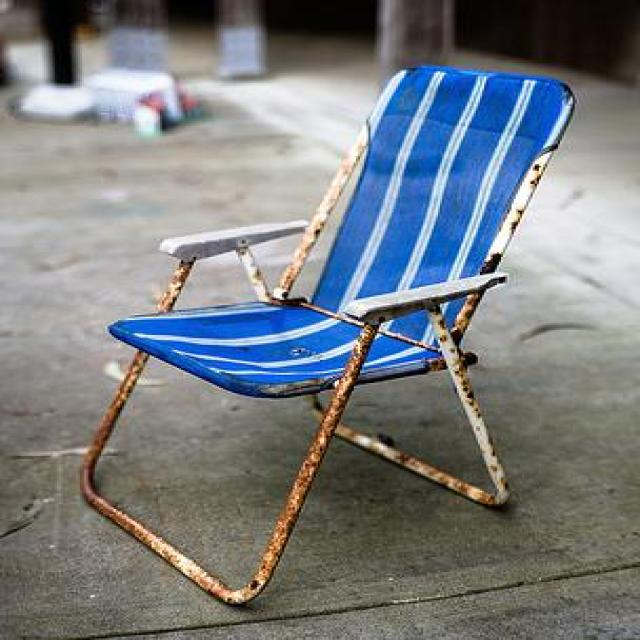chair: (78, 63, 577, 607)
